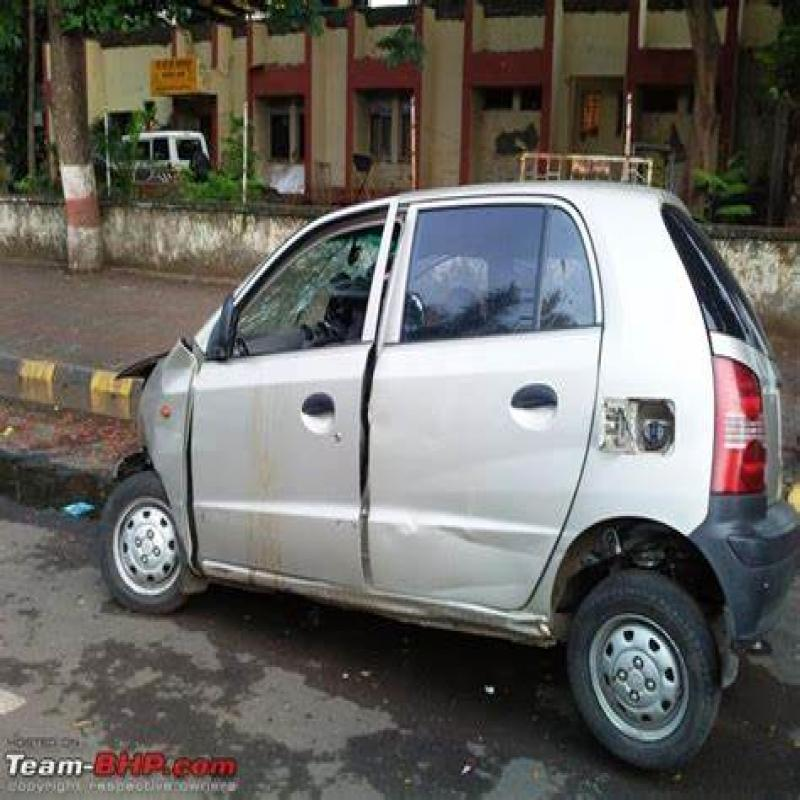car: (138, 167, 694, 800)
